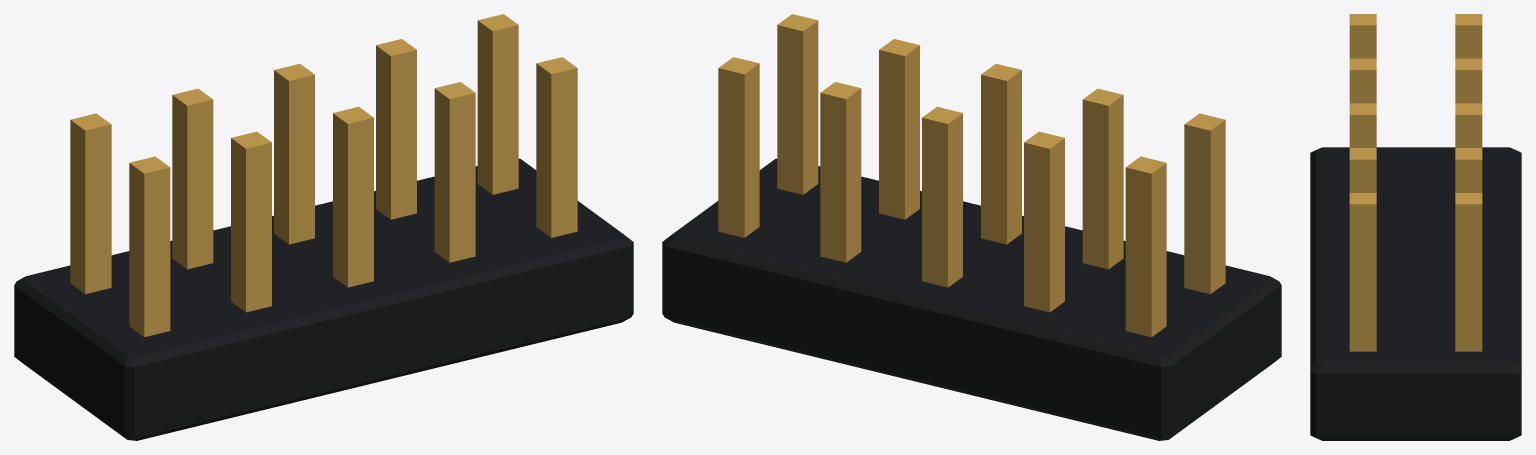
Rendered from L128_F_AUDIO.fbx.
3 renders of one model, left to right at view 1: azimuth 30°, elevation 25°; view 2: azimuth 150°, elevation 25°; view 3: azimuth 270°, elevation 25°, orthographic. The views are drawn at different scales.
Parts seen in each view (by area): view 1: F_AUDIO__Plastic, F_AUDIO__Gold; view 2: F_AUDIO__Plastic, F_AUDIO__Gold; view 3: F_AUDIO__Plastic, F_AUDIO__Gold.
Boxes of the visible parts, left/top/right/bottom form: F_AUDIO__Plastic: left=14, top=158, right=633, bottom=440; F_AUDIO__Gold: left=70, top=14, right=577, bottom=337; F_AUDIO__Plastic: left=662, top=158, right=1281, bottom=440; F_AUDIO__Gold: left=718, top=14, right=1225, bottom=337; F_AUDIO__Plastic: left=1310, top=147, right=1521, bottom=440; F_AUDIO__Gold: left=1349, top=14, right=1482, bottom=351.
Bounding box in the file's own units: 12.7 × 5.9 × 5.08.
